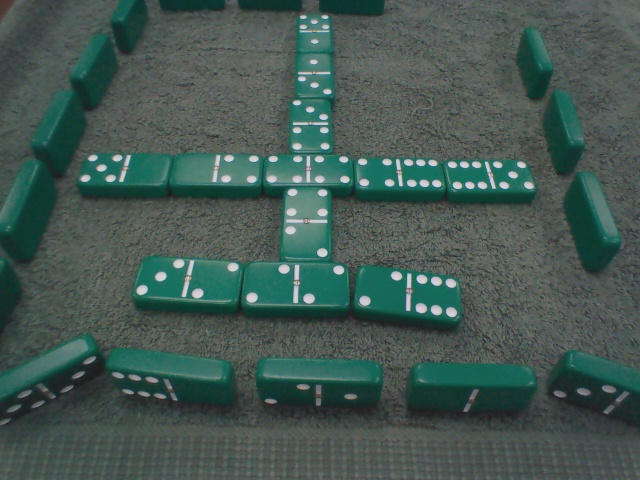B: (353, 264, 466, 326), (132, 249, 242, 308), (240, 260, 355, 316), (349, 152, 448, 203), (274, 186, 336, 262), (166, 149, 263, 197), (445, 157, 542, 201), (79, 149, 166, 197), (263, 152, 355, 195), (286, 94, 334, 153), (287, 58, 341, 100), (292, 10, 336, 60)
C: (3, 156, 54, 262), (33, 88, 86, 176), (64, 35, 122, 111), (108, 1, 152, 48), (1, 259, 23, 343)
D: (558, 166, 625, 276), (538, 88, 589, 175), (505, 24, 558, 103)
E: (105, 346, 251, 411), (402, 365, 543, 424), (1, 348, 106, 426), (549, 344, 640, 429), (256, 356, 383, 416)
F: (317, 1, 388, 18), (156, 1, 227, 11), (245, 1, 304, 12)
